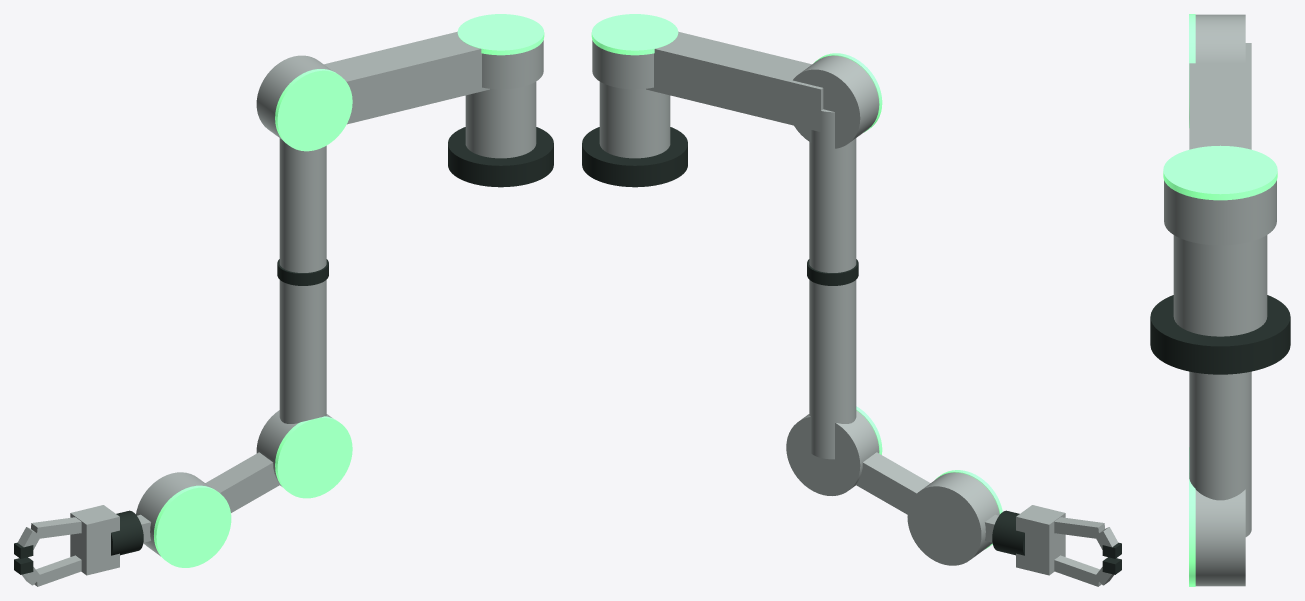
File: robotic-arm.glb
3 renders of one model, left to right at view 1: azimuth 30°, elevation 25°; view 2: azimuth 150°, elevation 25°; view 3: azimuth 270°, elevation 25°, orthographic. The views are drawn at different scales.
Visible parts, largest first — view 1: Vertical_support_tube, Upper_link, J3_Shoulder_accent, J5_Camera_accent, J4_Tool_support_accent, Mount_column, Upper_mount, J0_Base_accent, Gripper_palm, Camera_holder, J0_Base_housing, J3_Shoulder_housing (+6 smaller); view 2: Vertical_support_tube, Upper_link, J5_Camera_housing, Mount_column, J4_Tool_support_housing, J3_Shoulder_housing, Upper_mount, J0_Base_accent, Gripper_palm, Camera_holder, J0_Base_housing, Gripper_collar (+3 smaller); view 3: Mount_column, Vertical_support_tube, Upper_mount, Upper_link, J0_Base_housing, J0_Base_accent, J4_Tool_support_housing, J3_Shoulder_housing, J4_Tool_support_accent, J3_Shoulder_accent.
Part boxes in pixels (left/top/right/bottom): Vertical_support_tube: left=279, top=138, right=326, bottom=423; Upper_link: left=324, top=31, right=489, bottom=124; J3_Shoulder_accent: left=275, top=69, right=352, bottom=151; J5_Camera_accent: left=154, top=485, right=231, bottom=567; J4_Tool_support_accent: left=275, top=416, right=352, bottom=498; Mount_column: left=465, top=82, right=536, bottom=158; Upper_mount: left=448, top=127, right=553, bottom=187; J0_Base_accent: left=457, top=14, right=544, bottom=55; Gripper_palm: left=70, top=505, right=119, bottom=575; Camera_holder: left=205, top=452, right=280, bottom=512; J0_Base_housing: left=482, top=40, right=543, bottom=89; J3_Shoulder_housing: left=256, top=55, right=332, bottom=139; Vertical_support_tube: left=809, top=109, right=856, bottom=459; Upper_link: left=646, top=31, right=823, bottom=131; J5_Camera_housing: left=907, top=472, right=999, bottom=565; Mount_column: left=599, top=82, right=670, bottom=158; J4_Tool_support_housing: left=786, top=410, right=879, bottom=495; J3_Shoulder_housing: left=793, top=55, right=879, bottom=148; Upper_mount: left=582, top=127, right=687, bottom=187; J0_Base_accent: left=591, top=14, right=678, bottom=55; Gripper_palm: left=1016, top=505, right=1065, bottom=575; Camera_holder: left=855, top=452, right=930, bottom=514; J0_Base_housing: left=592, top=40, right=653, bottom=89; Gripper_collar: left=992, top=510, right=1024, bottom=555; Mount_column: left=1173, top=235, right=1267, bottom=336; Vertical_support_tube: left=1189, top=371, right=1251, bottom=536; Upper_mount: left=1150, top=295, right=1290, bottom=374; Upper_link: left=1189, top=43, right=1251, bottom=149; J0_Base_housing: left=1164, top=180, right=1276, bottom=245; J0_Base_accent: left=1163, top=145, right=1277, bottom=200; J4_Tool_support_housing: left=1195, top=489, right=1245, bottom=586; J3_Shoulder_housing: left=1195, top=14, right=1245, bottom=62; J4_Tool_support_accent: left=1189, top=473, right=1195, bottom=586; J3_Shoulder_accent: left=1189, top=14, right=1195, bottom=127.
Bounding box in the file's own units: 4.15 × 3.49 × 0.72.
